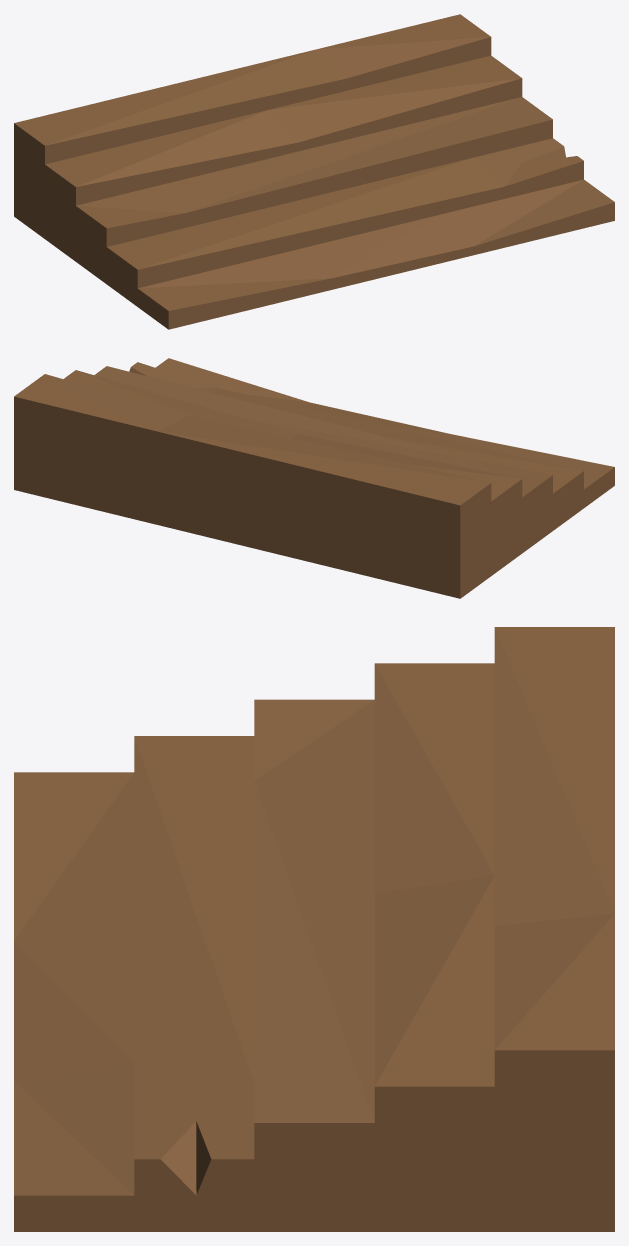
The model's file is Ruin_7_Light_Brown.fbx.
3 renders of one model, top to bottom at view 1: azimuth 30°, elevation 25°; view 2: azimuth 150°, elevation 25°; view 3: azimuth 270°, elevation 25°, orthographic. The views are drawn at different scales.
Visible parts, largest first — view 1: Ruin_7_Light_Brown; view 2: Ruin_7_Light_Brown; view 3: Ruin_7_Light_Brown.
Boxes of the visible parts, x1,y1,x2,y2 form: Ruin_7_Light_Brown: [14, 14, 614, 329]; Ruin_7_Light_Brown: [14, 358, 614, 598]; Ruin_7_Light_Brown: [14, 627, 614, 1231].
Size of the model in its own units: 500 by 100 by 300.
